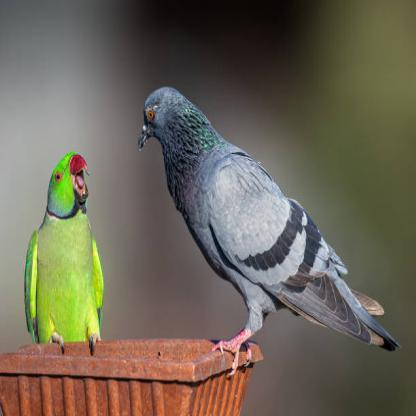Flying Rat: (126, 86, 386, 382)
